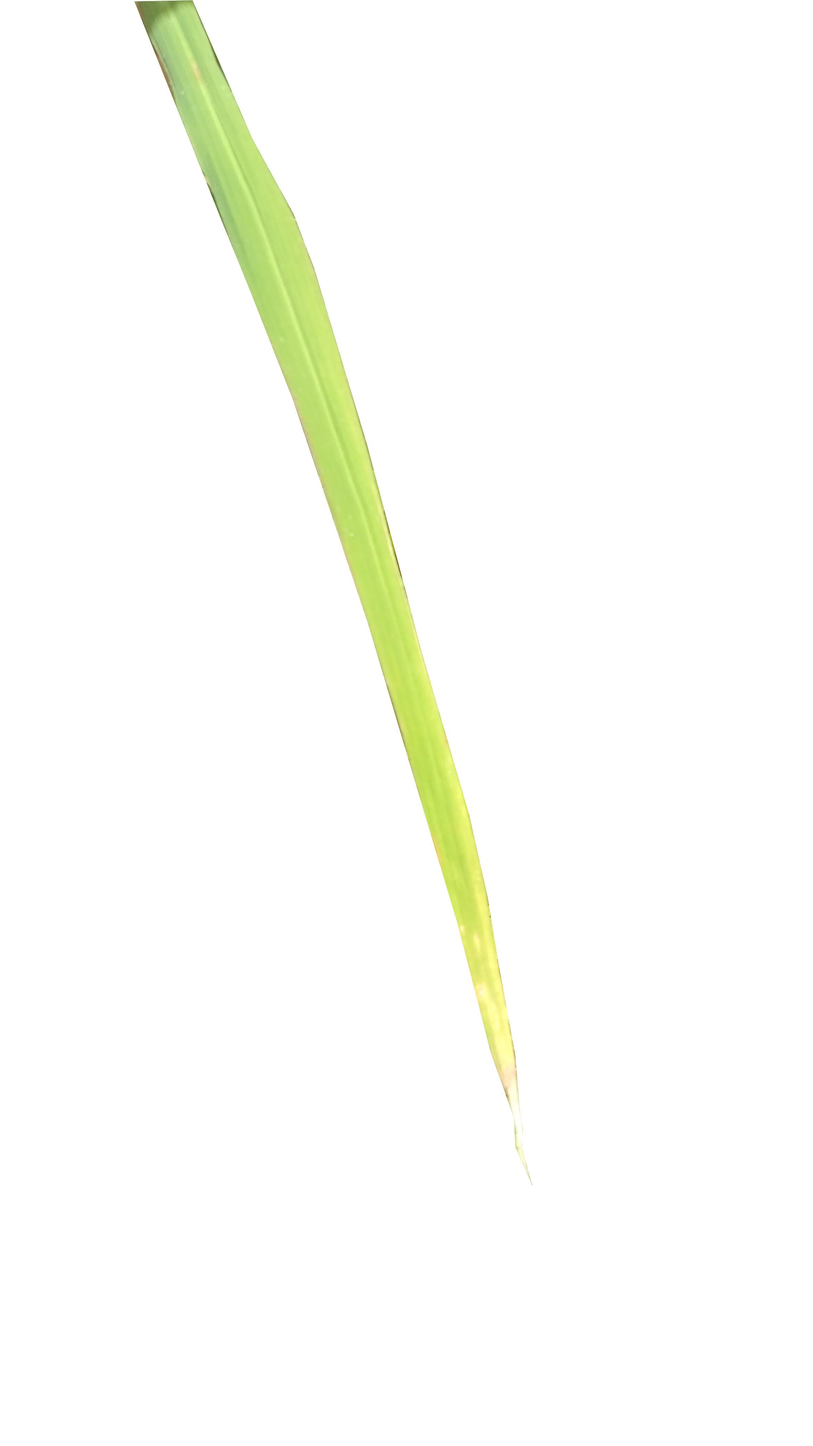Tungro: (133, 0, 535, 1183)
